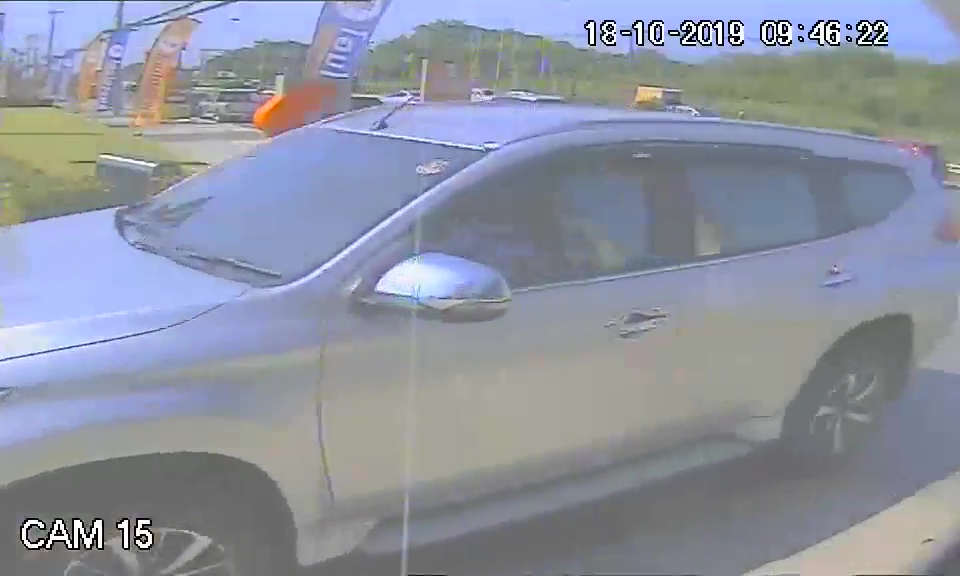pickup: (52, 105, 931, 500)
